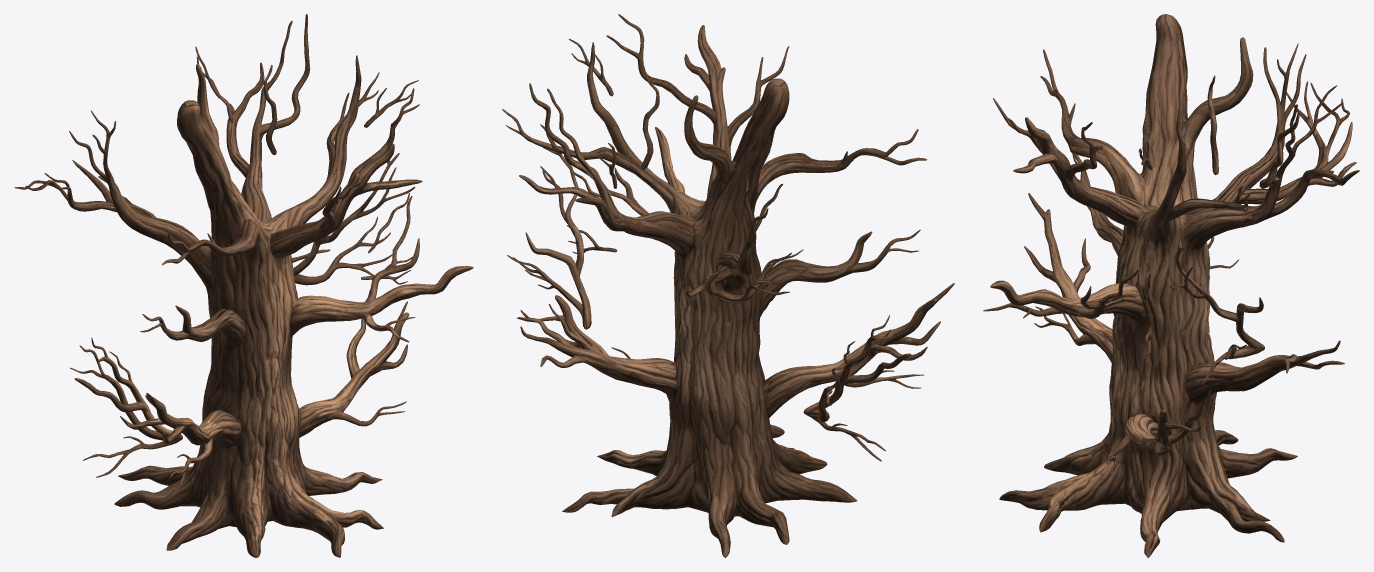
Rendered from oak.glb.
The picture shows the model from 3 angles, left to right: view 1: azimuth 30°, elevation 25°; view 2: azimuth 150°, elevation 25°; view 3: azimuth 270°, elevation 25°; orthographic projection. The views are drawn at different scales.
Bounding box in the file's own units: 1.69 × 1.9 × 1.45.
1 material, 1 textured.
